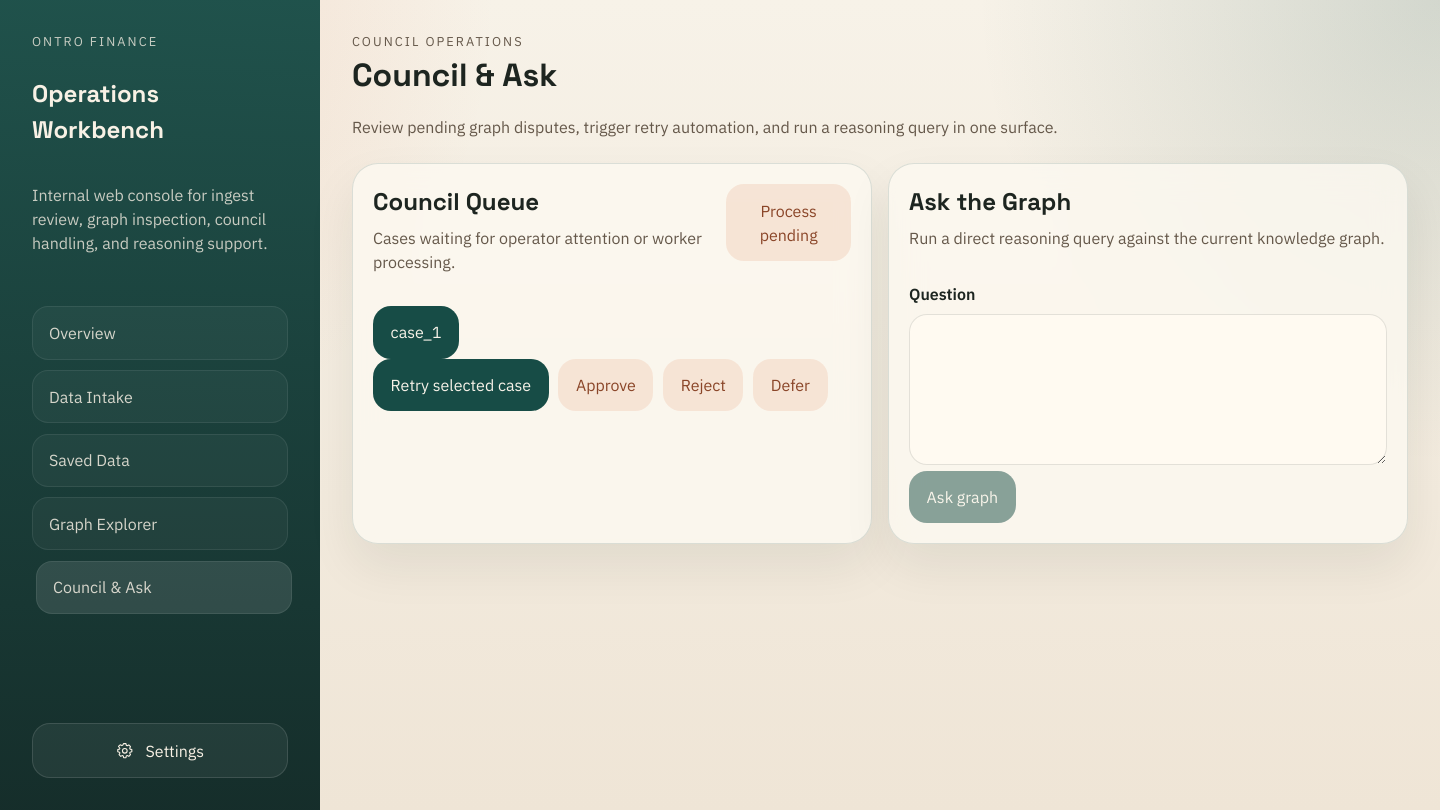
Test: Council and ask › retries the selected case and reports the worker result
Expected: the button "case_1" is shown, 373,306 -> 459,359
Click the button "Retry selected case" at (461, 385), box 373,359 -> 549,411
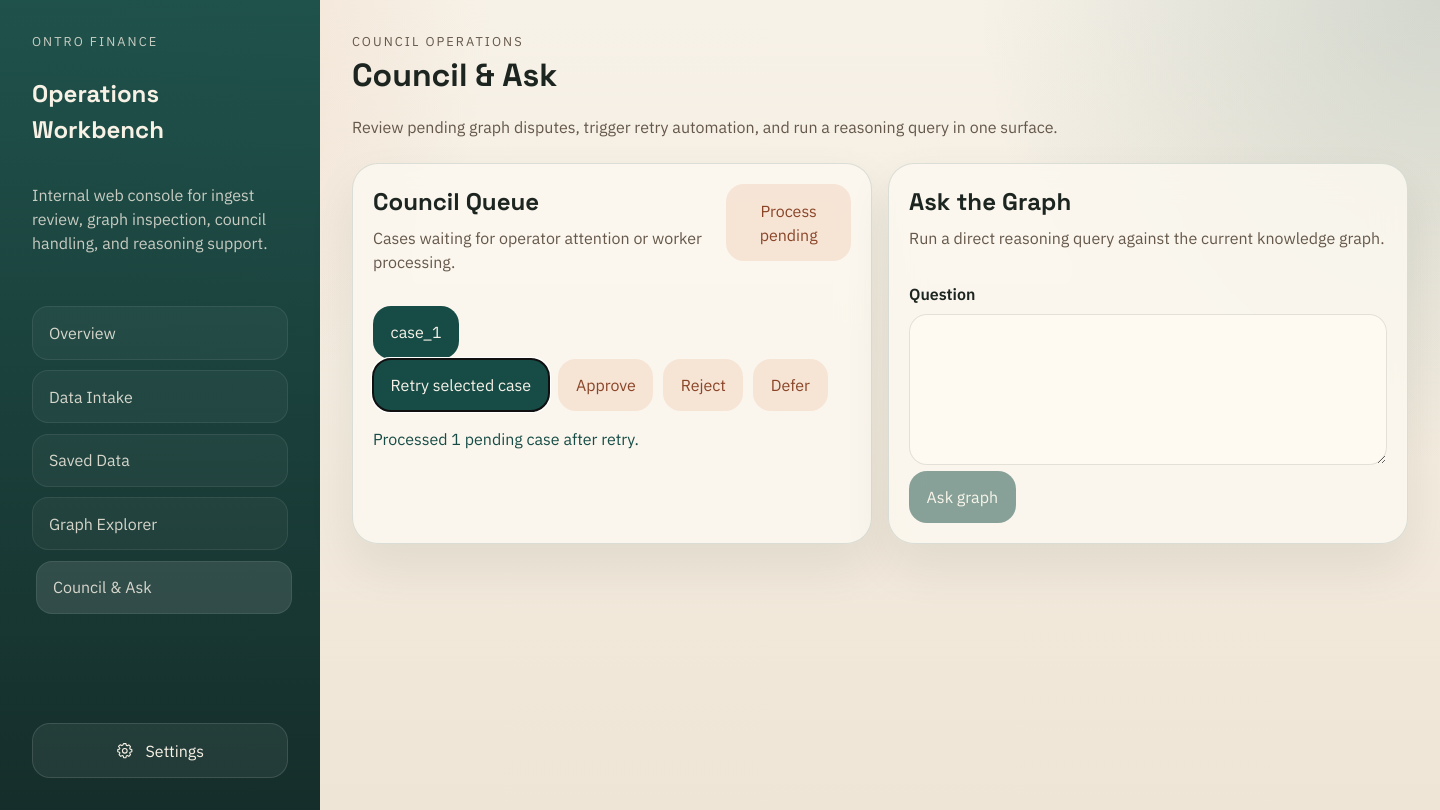
Expected: the text "Processed 1 pending case after retry." is shown, 373,429 -> 639,449
